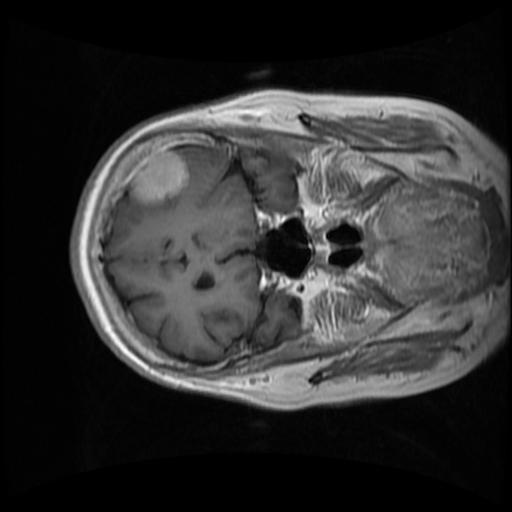meningioma: (130, 154, 189, 203)
